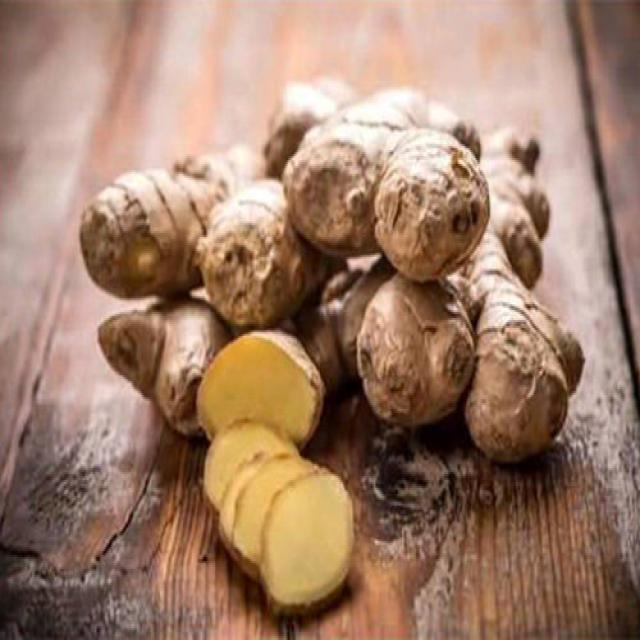ginger: (66, 74, 590, 612)
